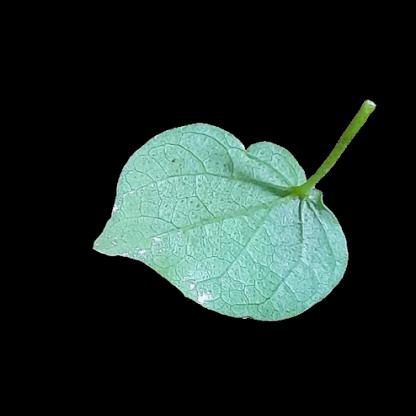healthy: (161, 142, 283, 296), (287, 210, 334, 292), (120, 177, 167, 240)
